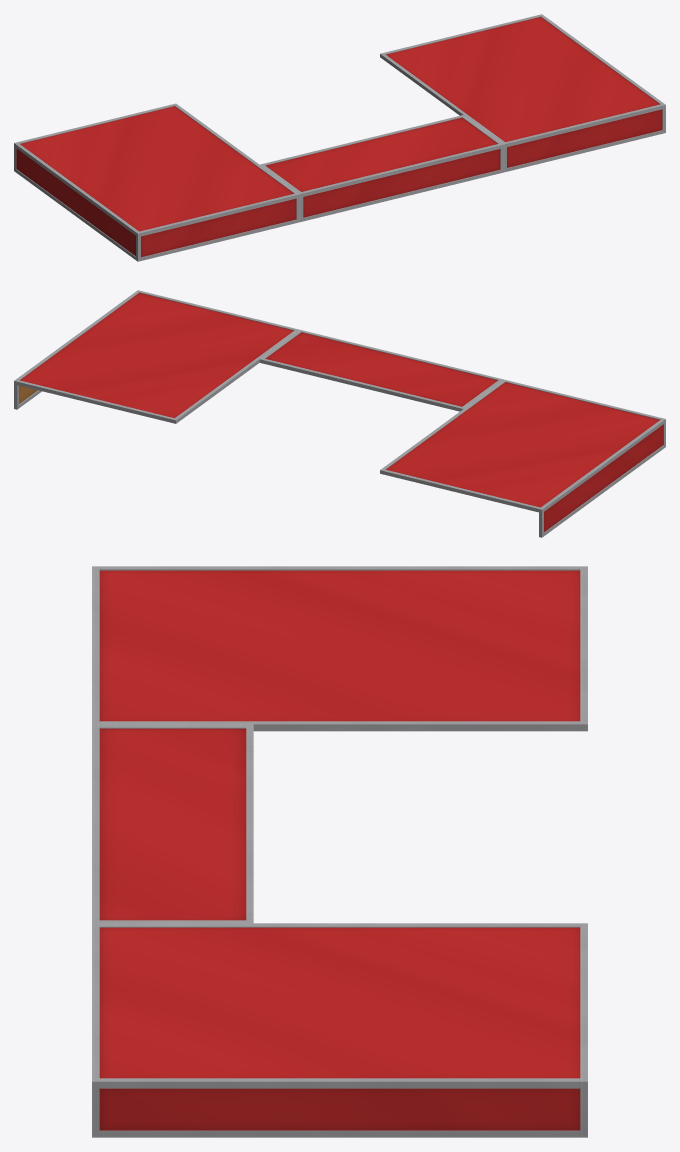
The model's file is jsf_2P_s02_c06_t02_DX.fbx.
The picture shows the model from 3 angles, top to bottom: view 1: azimuth 30°, elevation 25°; view 2: azimuth 150°, elevation 25°; view 3: azimuth 270°, elevation 25°; orthographic projection. The views are drawn at different scales.
Parts seen in each view (by area): view 1: jsf_2P_s02_c06_t02_DX; view 2: jsf_2P_s02_c06_t02_DX; view 3: jsf_2P_s02_c06_t02_DX.
Part boxes in pixels (x1,y1,x2,y2): jsf_2P_s02_c06_t02_DX: (14,14,665,261); jsf_2P_s02_c06_t02_DX: (14,290,665,537); jsf_2P_s02_c06_t02_DX: (92,566,587,1137).
Size of the model in its own units: 246 by 12.51 by 100.
